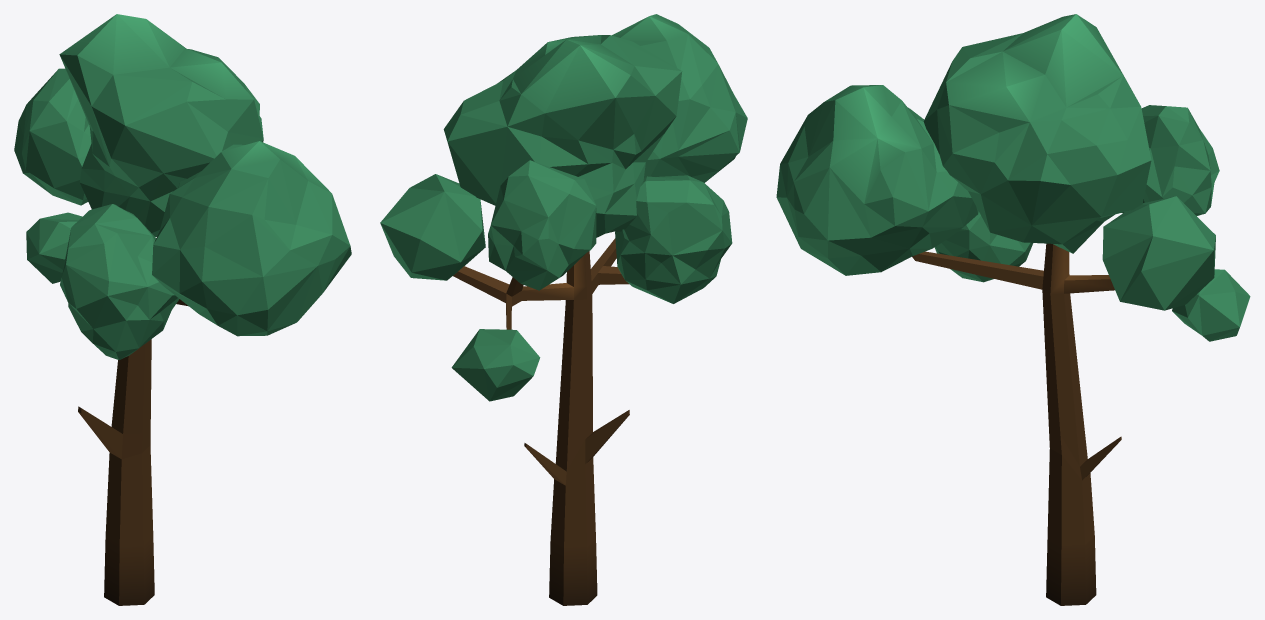
Rendered from tree_6_1.fbx.
3 renders of one model, left to right at view 1: azimuth 30°, elevation 25°; view 2: azimuth 150°, elevation 25°; view 3: azimuth 270°, elevation 25°, orthographic. The views are drawn at different scales.
Parts seen in each view (by area): view 1: tree_6_1; view 2: tree_6_1; view 3: tree_6_1.
Boxes of the visible parts, x1,y1,x2,y2 form: tree_6_1: (14,14,351,605); tree_6_1: (380,14,747,605); tree_6_1: (776,14,1250,605).
Size of the model in its own units: 4 by 6.55 by 8.8.
